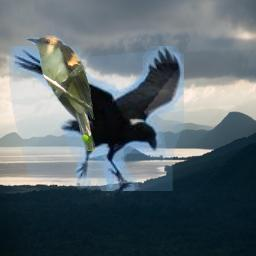Crow: (9, 46, 184, 191)
Cuckoo: (23, 34, 98, 157)
